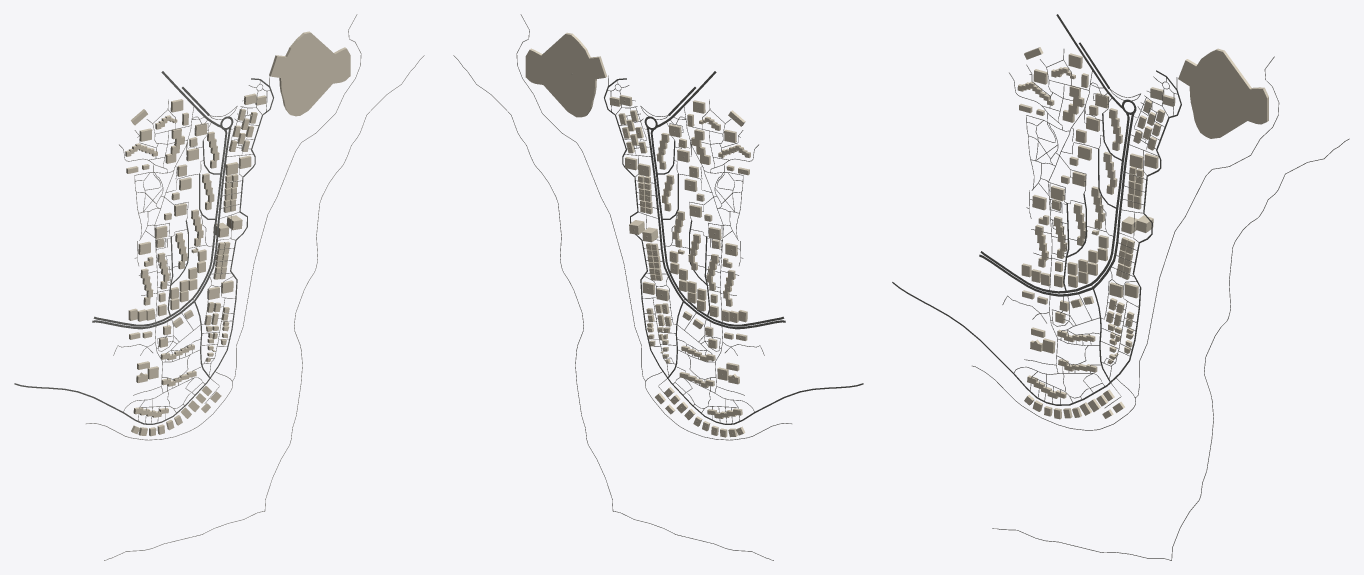
File: historic-palestine-11_35_3530_3290.glb
3 views of the same model, side by side, from view 1: azimuth 30°, elevation 25°; view 2: azimuth 150°, elevation 25°; view 3: azimuth 330°, elevation 25° (orthographic). The views are drawn at different scales.
Visible parts, largest first — view 1: Building_.001, Road מורד הגיא, Road משעול חצב, Road הפרחים, Road .005; view 2: Building_.001, Road מורד הגיא, Road משעול חצב, Road הפרחים, Road .005; view 3: Building_.001, Road מורד הגיא, Road משעול חצב, Road הפרחים, Road .005.
Part boxes in pixels (bbox=[...]): Building_.001: bbox=[269, 31, 350, 116]; Road מורד הגיא: bbox=[93, 128, 227, 326]; Road משעול חצב: bbox=[210, 78, 273, 378]; Road הפרחים: bbox=[14, 301, 210, 424]; Road .005: bbox=[264, 55, 424, 510]; Building_.001: bbox=[525, 32, 607, 117]; Road מורד הגיא: bbox=[650, 128, 784, 326]; Road משעול חצב: bbox=[604, 78, 667, 378]; Road הפרחים: bbox=[667, 301, 863, 424]; Road .005: bbox=[453, 55, 613, 510]; Building_.001: bbox=[1178, 48, 1268, 138]; Road מורד הגיא: bbox=[980, 112, 1129, 293]; Road משעול חצב: bbox=[1110, 70, 1181, 382]; Road הפרחים: bbox=[892, 282, 1110, 405]; Road .005: bbox=[1171, 138, 1349, 560].
Size of the model in its own units: 1042 by 1177 by 29.1.
